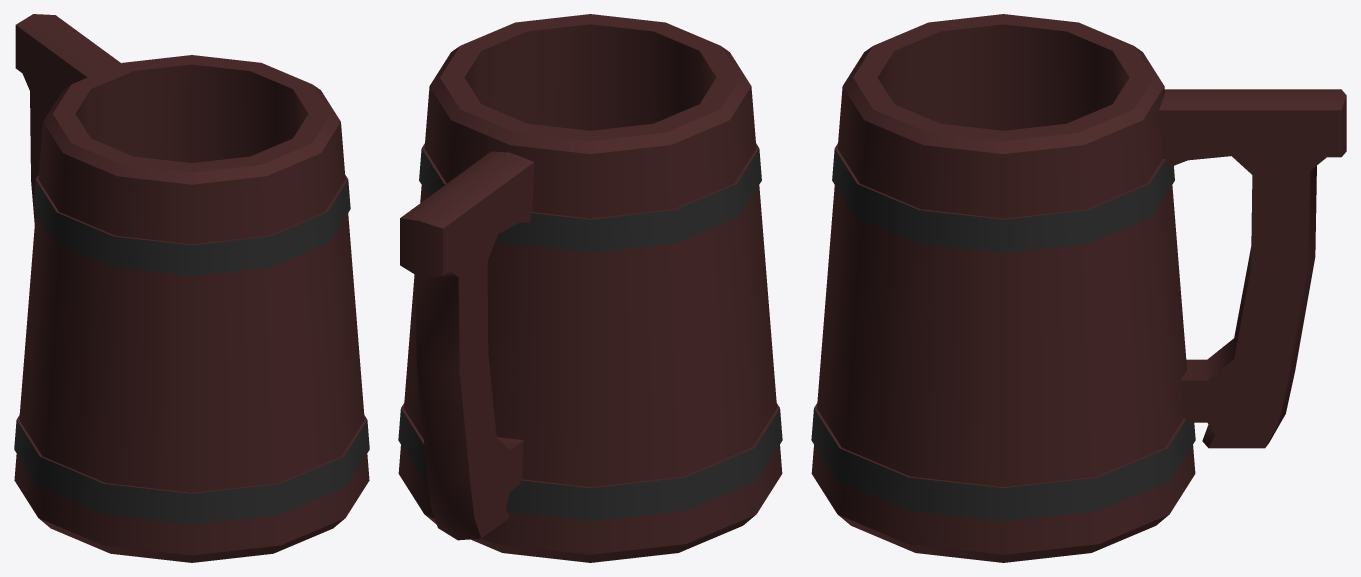
File: Rubbish3.fbx
The picture shows the model from 3 angles, left to right: view 1: azimuth 30°, elevation 25°; view 2: azimuth 150°, elevation 25°; view 3: azimuth 270°, elevation 25°; orthographic projection. The views are drawn at different scales.
Parts seen in each view (by area): view 1: Tankard; view 2: Tankard; view 3: Tankard.
Boxes of the visible parts, x1,y1,x2,y2 form: Tankard: [14, 14, 369, 562]; Tankard: [398, 14, 782, 562]; Tankard: [811, 14, 1346, 562].
Size of the model in its own units: 46.33 by 54.66 by 64.52.
